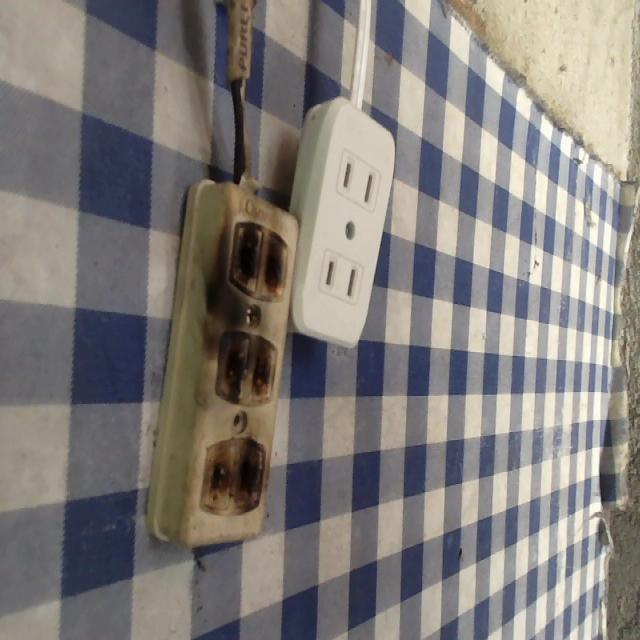-: (201, 436, 266, 519), (218, 327, 280, 409), (228, 219, 291, 297)
